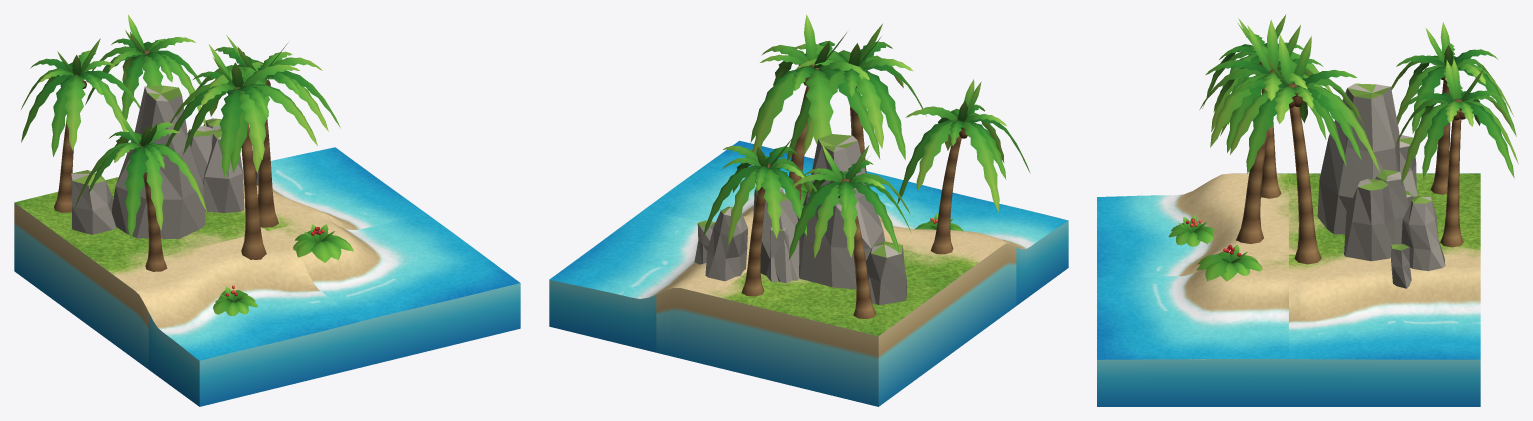
The model's file is Corner_Forest.obj.
3 renders of one model, left to right at view 1: azimuth 30°, elevation 25°; view 2: azimuth 150°, elevation 25°; view 3: azimuth 270°, elevation 25°, orthographic. The views are drawn at different scales.
Parts seen in each view (by area): view 1: Corner_Forest_Palette, Corner_Forest_Corner_Forest_Terrain; view 2: Corner_Forest_Palette, Corner_Forest_Corner_Forest_Terrain; view 3: Corner_Forest_Palette, Corner_Forest_Corner_Forest_Terrain.
Part boxes in pixels (x1,y1,x2,y2): Corner_Forest_Palette: (14,14,520,406); Corner_Forest_Corner_Forest_Terrain: (14,147,519,360); Corner_Forest_Palette: (549,14,1068,406); Corner_Forest_Corner_Forest_Terrain: (549,140,1068,336); Corner_Forest_Palette: (1097,14,1518,406); Corner_Forest_Corner_Forest_Terrain: (1097,173,1480,359).
Bounding box in the file's own units: 4.36 × 3.16 × 4.4.
Materials: 2 (2 with a texture image).
